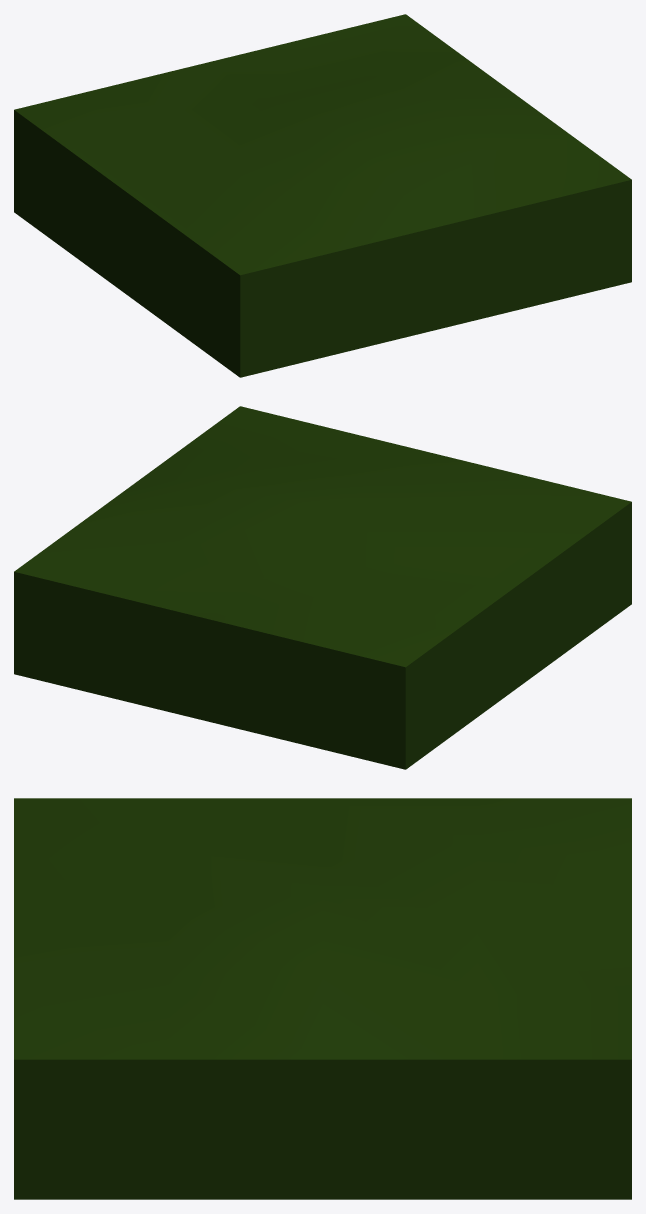
Rendered from uniformedTile-06_col.fbx.
3 views of the same model, one above another, from view 1: azimuth 30°, elevation 25°; view 2: azimuth 150°, elevation 25°; view 3: azimuth 270°, elevation 25° (orthographic). The views are drawn at different scales.
Parts seen in each view (by area): view 1: uniformedTile-06.col; view 2: uniformedTile-06.col; view 3: uniformedTile-06.col.
Boxes of the visible parts, <box> form: uniformedTile-06.col: <box>14,14,631,377</box>; uniformedTile-06.col: <box>14,406,631,769</box>; uniformedTile-06.col: <box>14,798,631,1199</box>.
Bounding box in the file's own units: 2 × 0.6394 × 2.
1 material, 1 textured.
